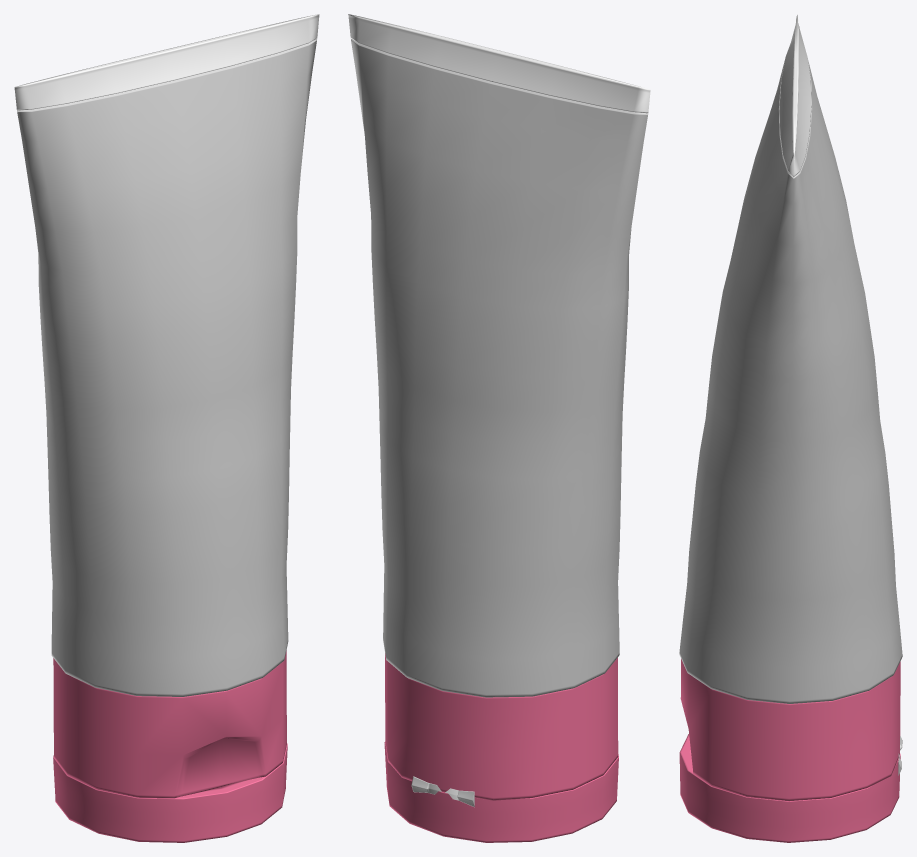
File: facewash.glb
The picture shows the model from 3 angles, left to right: view 1: azimuth 30°, elevation 25°; view 2: azimuth 150°, elevation 25°; view 3: azimuth 270°, elevation 25°; orthographic projection. The views are drawn at different scales.
Visible parts, largest first — view 1: Badan, Tutup2, Tutup1; view 2: Badan, Tutup2, Tutup1, Atas; view 3: Badan, Tutup2, Tutup1.
Boxes of the visible parts, box(x1,y1,x2,y2) form: Badan: box(14, 14, 319, 696); Tutup2: box(53, 650, 286, 798); Tutup1: box(53, 743, 287, 842); Badan: box(348, 14, 650, 697); Tutup2: box(385, 653, 618, 800); Tutup1: box(384, 742, 618, 842); Atas: box(411, 776, 474, 807); Badan: box(679, 15, 902, 703); Tutup2: box(680, 659, 900, 801); Tutup1: box(679, 734, 900, 842).
Size of the model in its own units: 0.0167 by 0.0391 by 0.0111.
